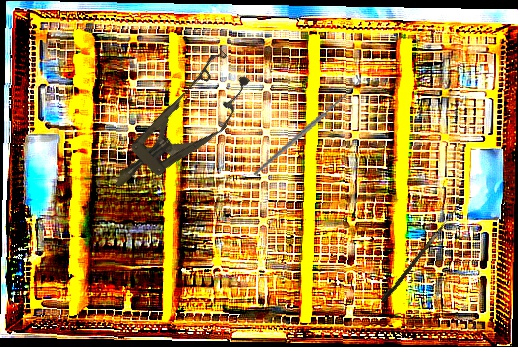Hook Surgical: (237, 74, 375, 177), (380, 201, 461, 304)
Speculum: (94, 46, 263, 209)
